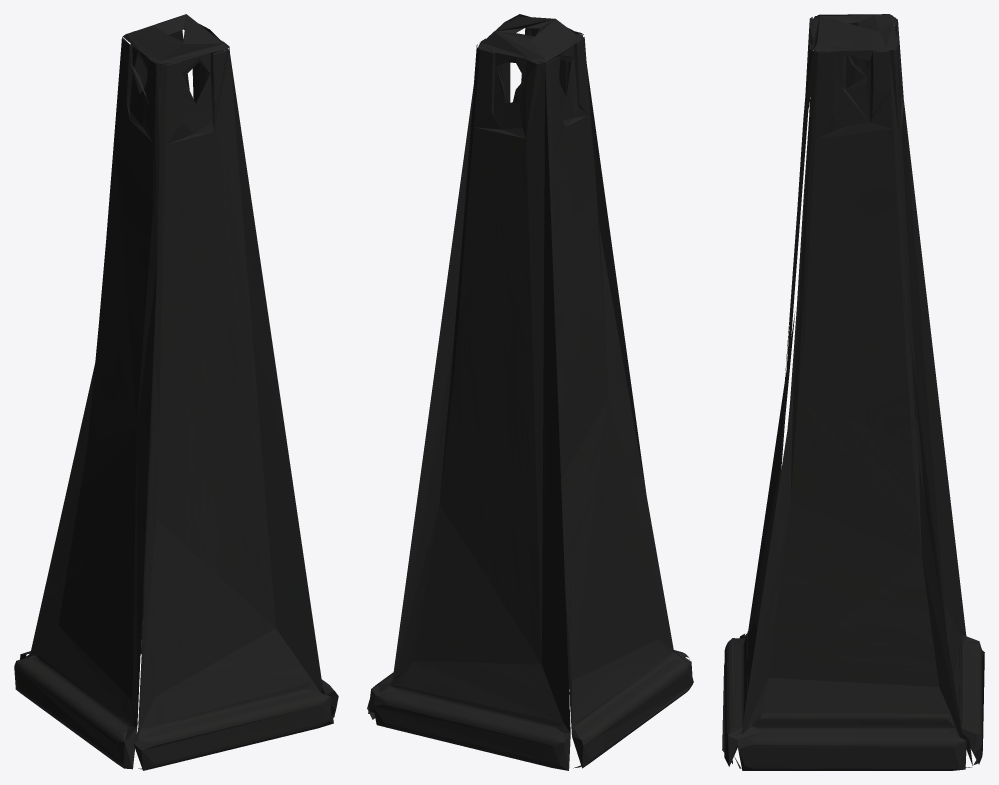
File: sign_wetFloor_a02.glb
3 renders of one model, left to right at view 1: azimuth 30°, elevation 25°; view 2: azimuth 150°, elevation 25°; view 3: azimuth 270°, elevation 25°, orthographic. The views are drawn at different scales.
Parts seen in each view (by area): view 1: geometry_0; view 2: geometry_0; view 3: geometry_0.
Boxes of the visible parts, <box> form: geometry_0: <box>14,14,338,770</box>; geometry_0: <box>367,14,693,770</box>; geometry_0: <box>722,14,984,770</box>.
Size of the model in its own units: 0.1417 by 0.42 by 0.1432.
1 material, 1 textured.
